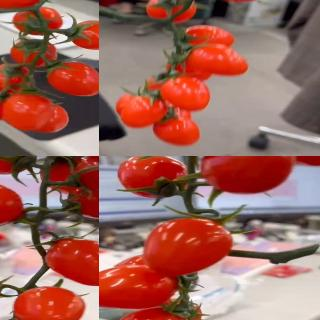tomato: (141, 218, 230, 280), (99, 263, 179, 312), (203, 156, 299, 196), (118, 156, 192, 200), (48, 237, 99, 286), (0, 93, 58, 136), (13, 287, 85, 320), (182, 44, 249, 76), (115, 91, 170, 128), (160, 73, 212, 110), (46, 62, 99, 98), (154, 114, 202, 148), (137, 298, 207, 320), (11, 40, 58, 71), (182, 24, 236, 50), (13, 8, 63, 36), (0, 178, 25, 226), (145, 0, 198, 22), (67, 185, 99, 219), (0, 63, 31, 96), (112, 307, 187, 320), (68, 19, 99, 49), (0, 156, 39, 174), (0, 0, 52, 10)
